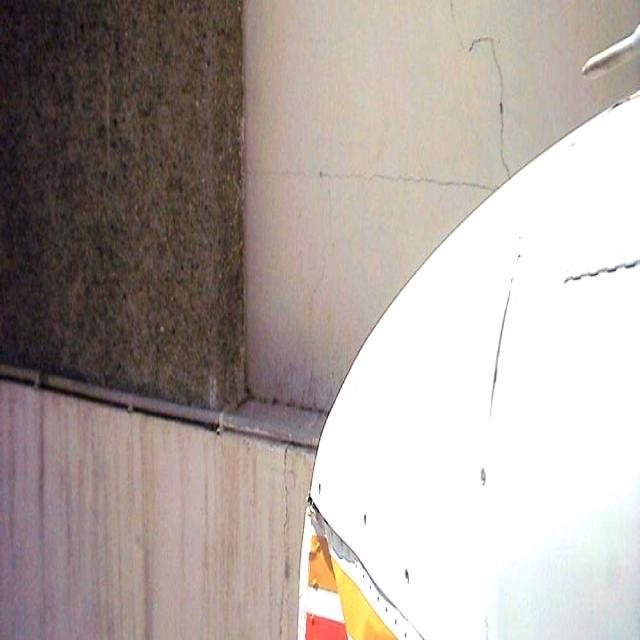dent: (298, 491, 353, 640)
